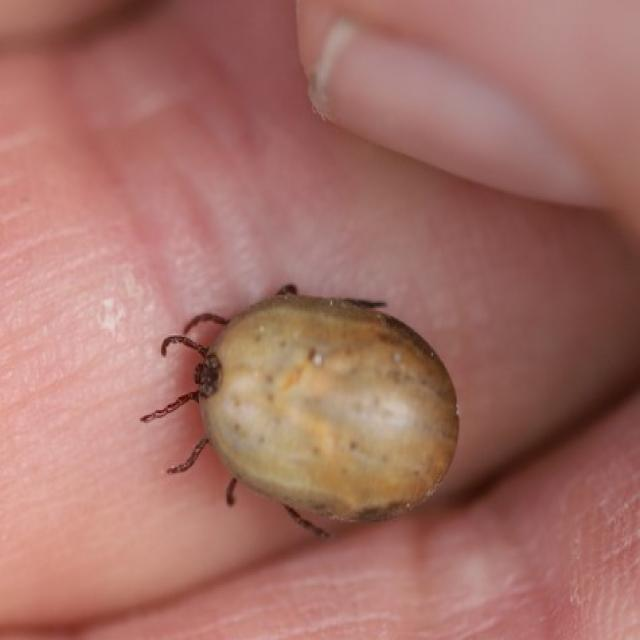Dermacentor Reticulatus-F-Fed: (141, 284, 460, 538)
